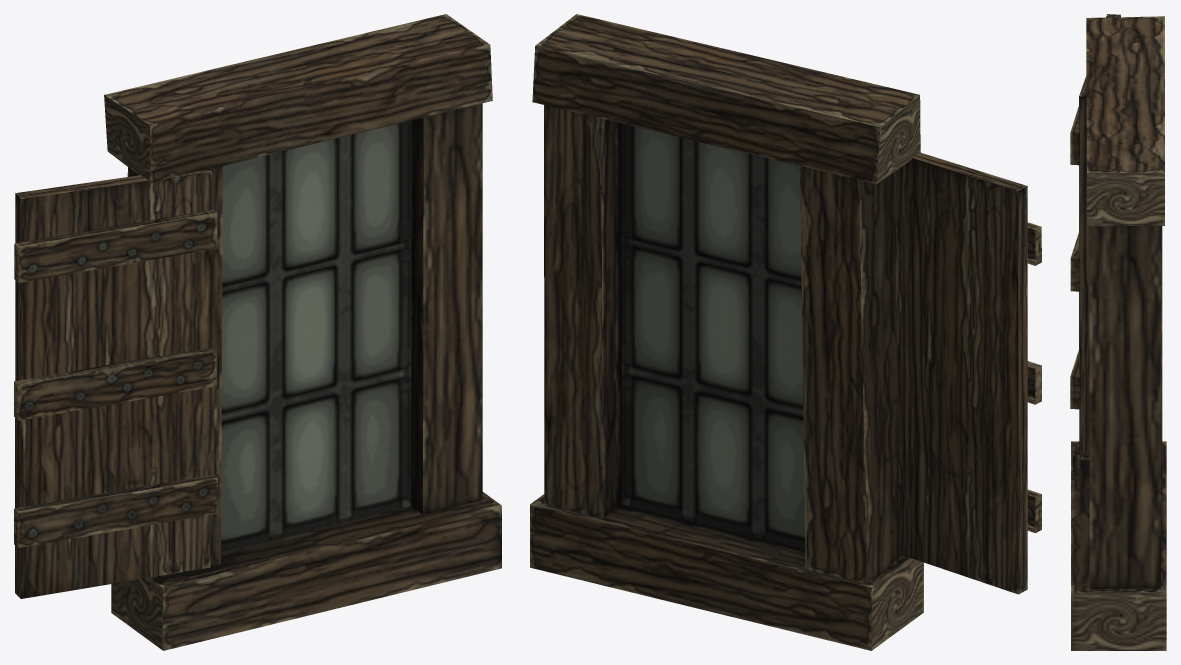
The model's file is Window_02.fbx.
The picture shows the model from 3 angles, left to right: view 1: azimuth 30°, elevation 25°; view 2: azimuth 150°, elevation 25°; view 3: azimuth 270°, elevation 25°; orthographic projection. The views are drawn at different scales.
Parts seen in each view (by area): view 1: Window_02; view 2: Window_02; view 3: Window_02.
Part boxes in pixels (x1,y1,x2,y2): Window_02: (14, 14, 501, 650); Window_02: (530, 14, 1041, 650); Window_02: (1070, 14, 1166, 650).
Size of the model in its own units: 1.94 by 2.06 by 0.3741.
